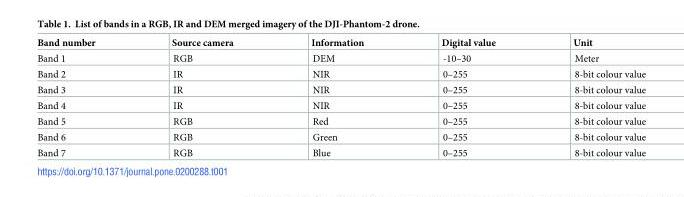table: (36, 37, 645, 157)
table column: (132, 37, 271, 157), (401, 37, 533, 157), (271, 37, 401, 157), (533, 37, 645, 157), (36, 37, 132, 157)
table column header: (36, 37, 645, 50)
table row: (36, 50, 645, 66), (36, 81, 645, 97), (36, 97, 645, 113), (36, 113, 645, 129), (36, 66, 645, 81), (36, 129, 645, 144), (36, 37, 645, 50), (36, 144, 645, 157)
